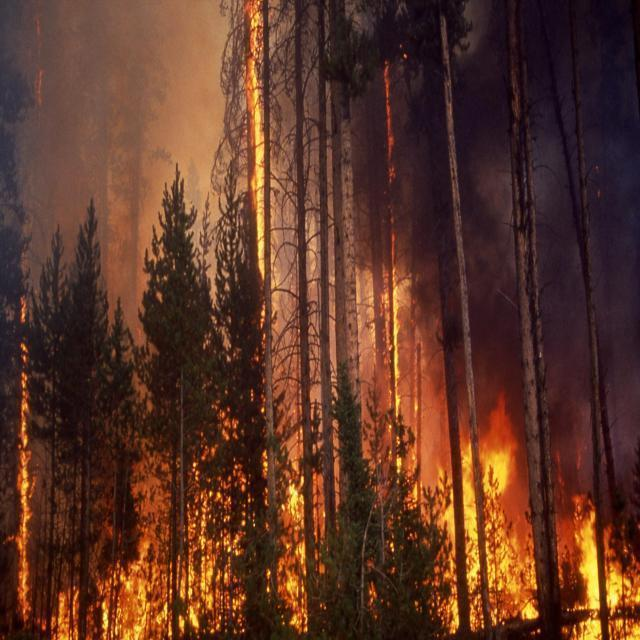Fire: (0, 391, 349, 640), (411, 415, 640, 640), (223, 0, 298, 413)
Smoke: (30, 0, 226, 178)
